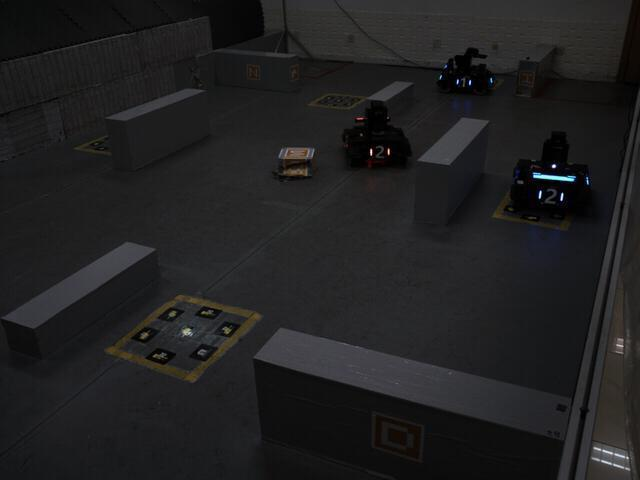armor: (532, 184, 569, 209), (366, 143, 393, 161), (453, 73, 475, 92)
